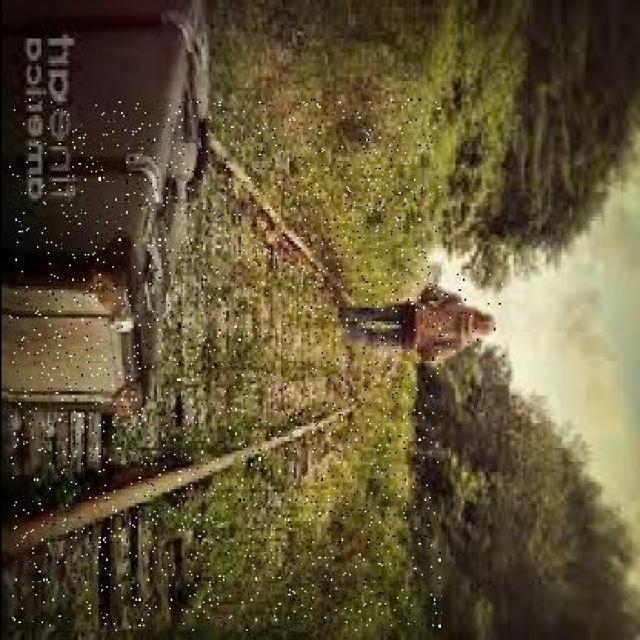danger: (334, 272, 504, 357)
rail: (8, 98, 439, 630)
